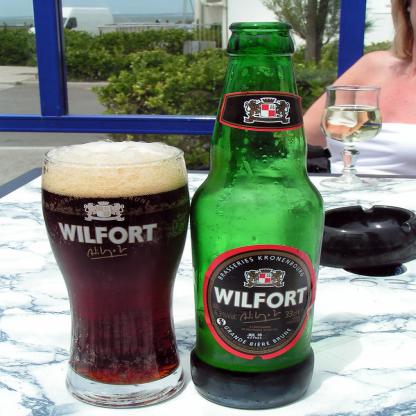drinking: (190, 22, 324, 410), (43, 139, 190, 408), (321, 84, 382, 192)
